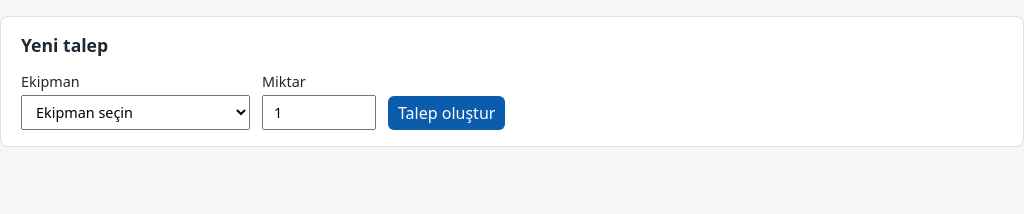
Scenario: shows the error message when the request is rejected
This screenshot has width=1024, height=214.
Select "ADP-01 - Terminal adaptörü" in the dropdown labelled "Ekipman" at (136, 112), box [21,95,250,130]
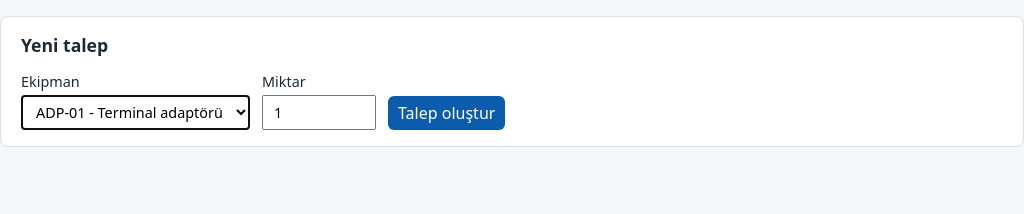
Click the button "Talep oluştur" at (447, 113), box [388,96,505,130]
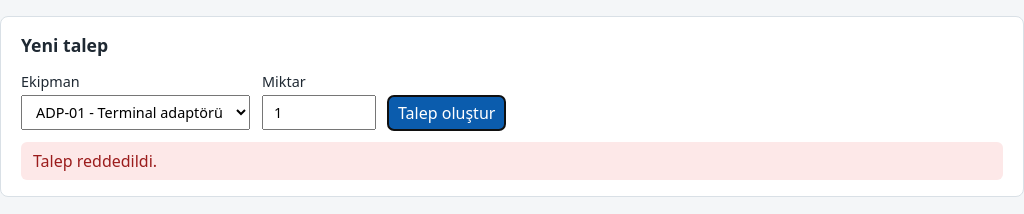
Result: the message reads "Talep reddedildi." at [33,150,157,172]
